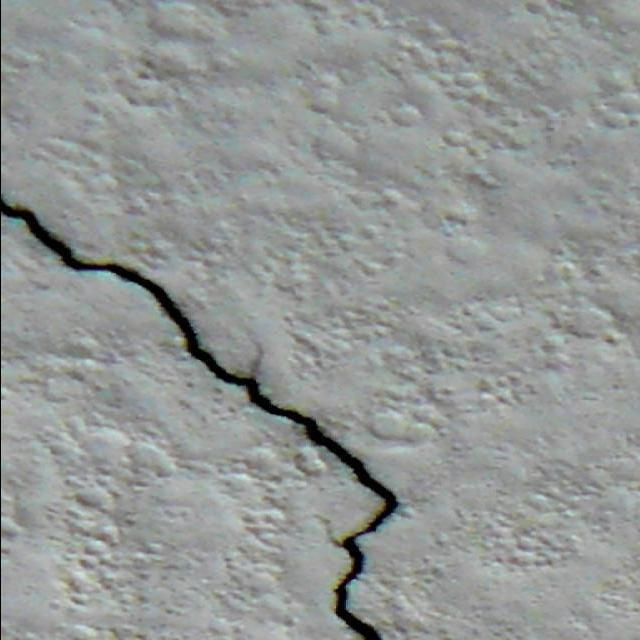Crack: (0, 192, 403, 639)
